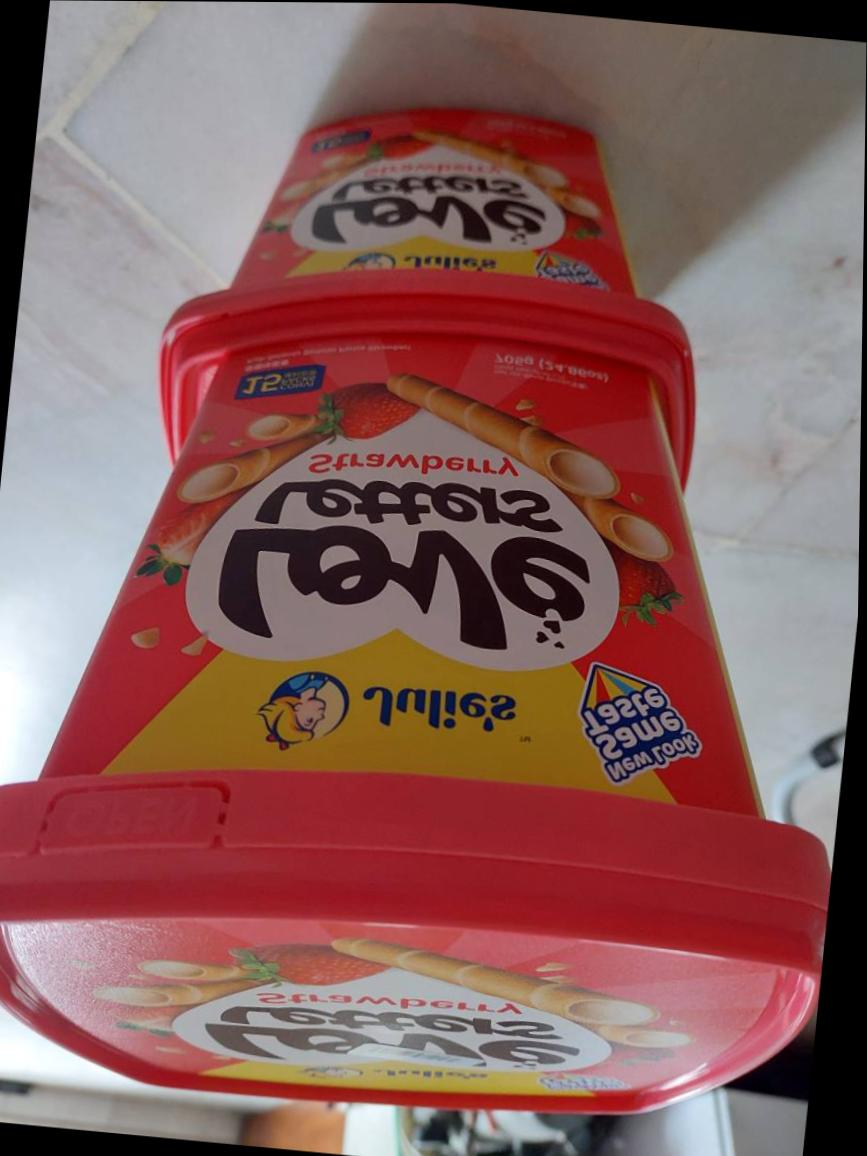plastic: (0, 113, 827, 1113), (164, 5, 693, 458)
